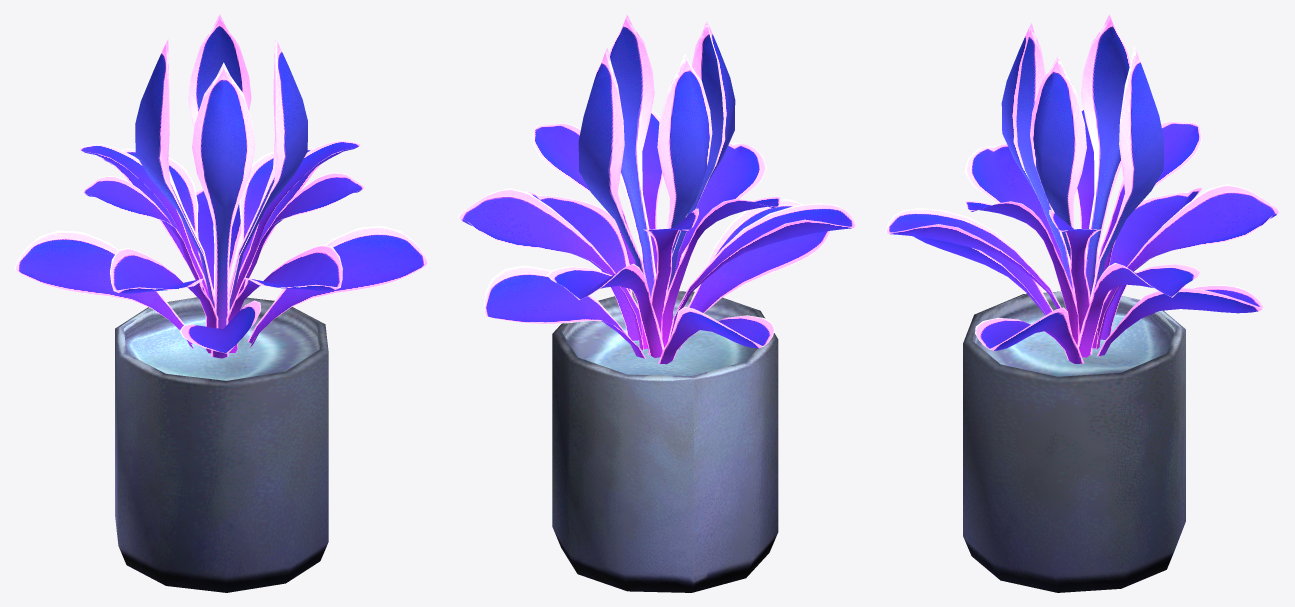
The model's file is obj_plant02.gltf.
3 views of the same model, side by side, from view 1: azimuth 30°, elevation 25°; view 2: azimuth 150°, elevation 25°; view 3: azimuth 270°, elevation 25° (orthographic). The views are drawn at different scales.
Parts seen in each view (by area): view 1: obj_plant02; view 2: obj_plant02; view 3: obj_plant02.
Part boxes in pixels (x1,y1,x2,y2): obj_plant02: [14, 14, 428, 592]; obj_plant02: [457, 14, 856, 592]; obj_plant02: [885, 14, 1280, 592].
Size of what is drawn, in the model's own units: 1.07 by 1.64 by 1.13.
1 material, 1 textured.
